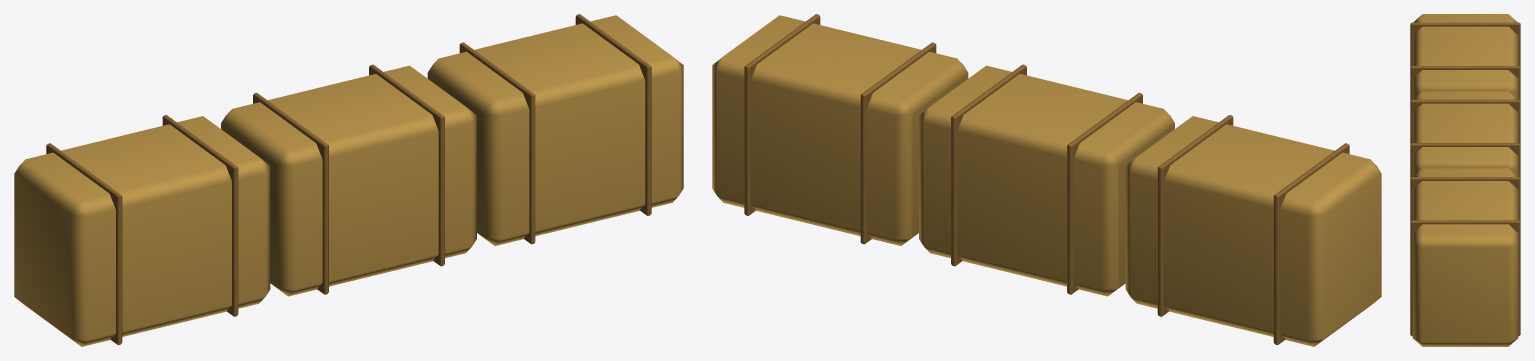
Rendered from speedway_county_barrier.glb.
3 views of the same model, side by side, from view 1: azimuth 30°, elevation 25°; view 2: azimuth 150°, elevation 25°; view 3: azimuth 270°, elevation 25° (orthographic). The views are drawn at different scales.
Visible parts, largest first — view 1: Hay bale; view 2: Hay bale; view 3: Hay bale.
Boxes of the visible parts, x1,y1,x2,y2 form: Hay bale: [14, 14, 683, 346]; Hay bale: [712, 14, 1381, 346]; Hay bale: [1410, 14, 1520, 346].
Bounding box in the file's own units: 3.59 × 0.84 × 0.73.
